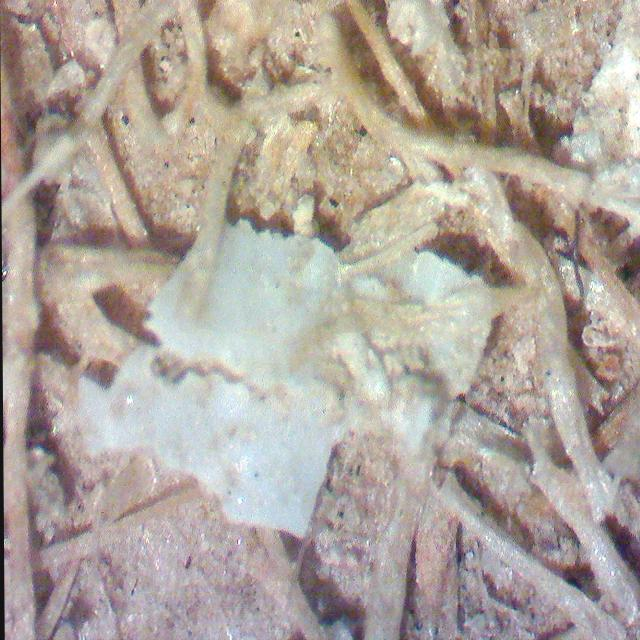microplastic: (80, 221, 496, 547)
